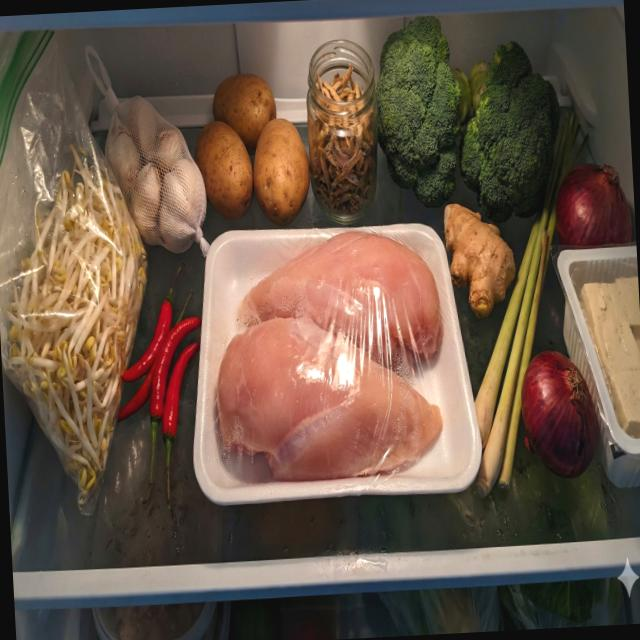anchovies: (306, 61, 379, 215)
bean_sprouts: (0, 140, 161, 511)
brocolli: (370, 8, 566, 226)
chicken: (208, 225, 450, 486)
chili: (110, 261, 212, 513)
garlic: (102, 91, 210, 259)
ginger: (442, 199, 519, 323)
lemongrass: (456, 112, 608, 500)
onion: (520, 349, 604, 484), (554, 162, 632, 252)
potato: (190, 70, 314, 232)
tofu: (578, 276, 640, 441)
